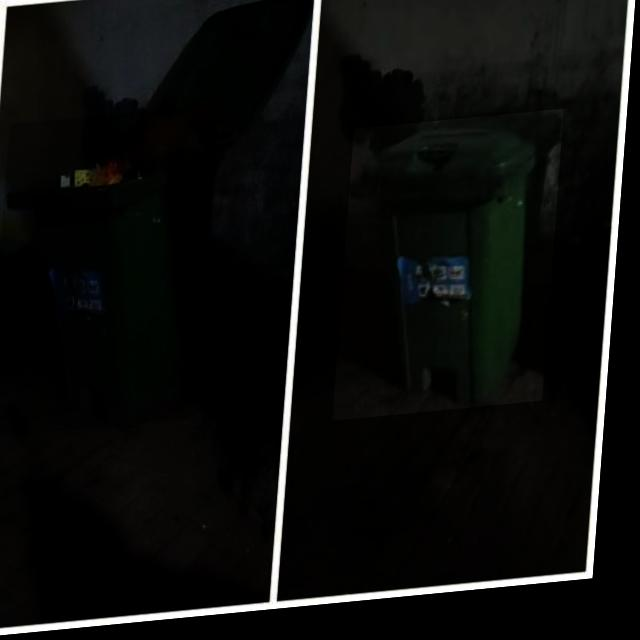garbage_bin: (339, 120, 566, 428)
overflow: (0, 108, 222, 439)
